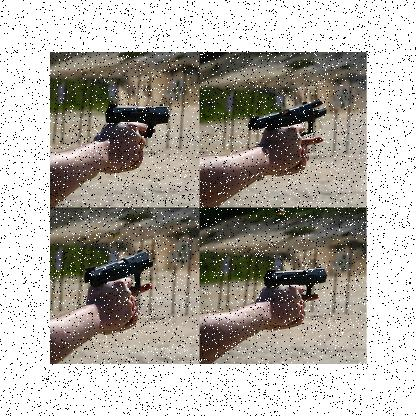gun: (248, 96, 328, 174), (85, 246, 153, 332), (102, 102, 168, 170), (262, 265, 326, 331)
